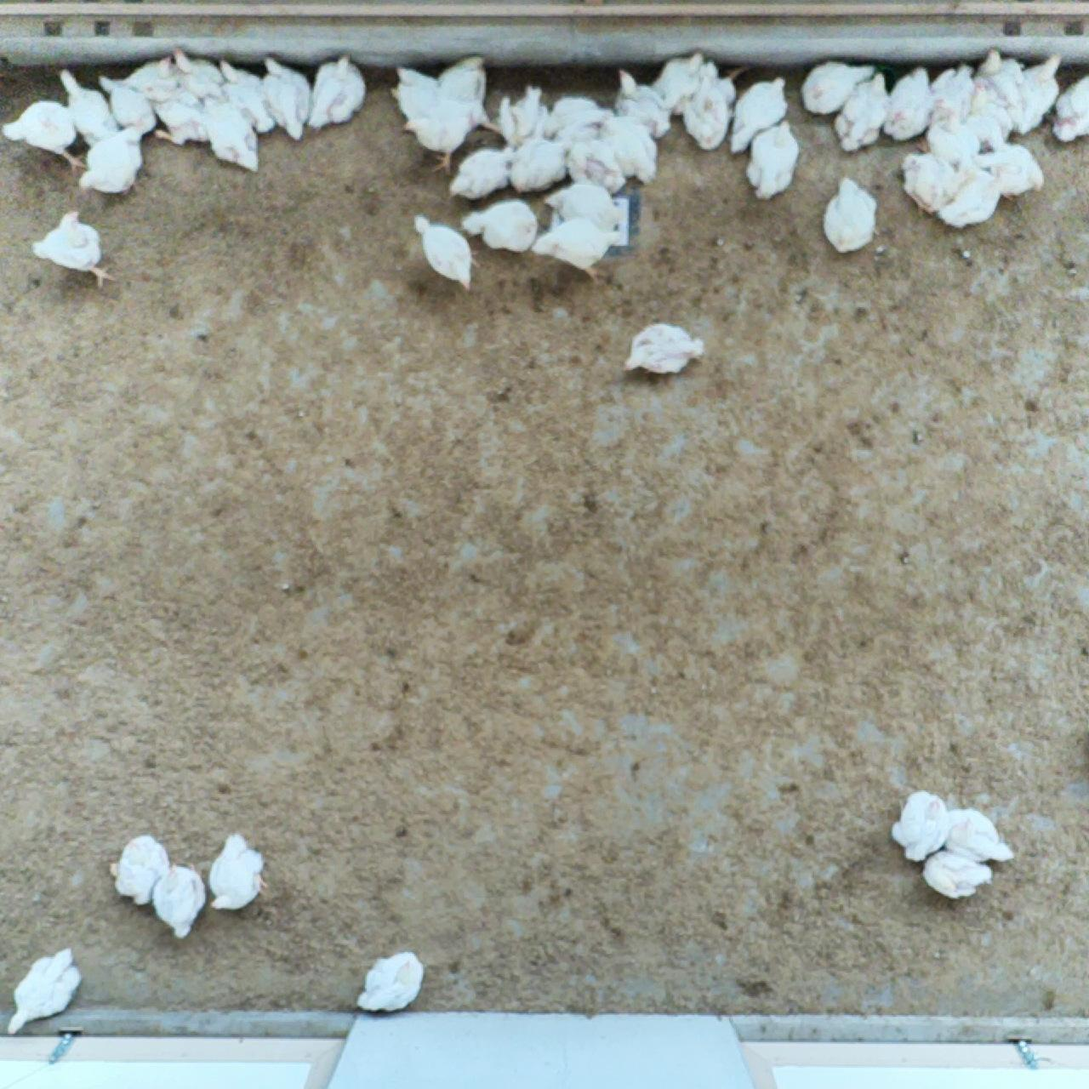chicken: (30, 214, 120, 287), (7, 949, 80, 1029), (50, 66, 123, 146), (396, 112, 487, 173), (535, 220, 624, 281), (6, 100, 87, 167), (199, 94, 265, 173), (413, 215, 481, 291), (391, 60, 500, 105), (208, 833, 267, 914), (939, 805, 1017, 866), (483, 84, 554, 151), (77, 128, 145, 197), (624, 323, 704, 379), (261, 54, 315, 135), (616, 67, 675, 141), (820, 175, 877, 250), (219, 60, 277, 133), (539, 183, 621, 234), (360, 949, 425, 1012), (151, 863, 204, 936), (109, 833, 164, 903), (748, 121, 798, 197), (978, 49, 1029, 123), (461, 202, 536, 252), (309, 54, 363, 123), (978, 143, 1047, 197), (99, 71, 157, 135), (386, 86, 478, 125), (836, 70, 882, 148), (445, 146, 512, 199), (565, 137, 626, 194), (1018, 51, 1061, 131), (685, 63, 751, 115), (940, 169, 1002, 224), (894, 790, 944, 858), (803, 62, 875, 109), (737, 78, 783, 151), (601, 117, 655, 179), (918, 852, 990, 898), (157, 88, 211, 148), (549, 96, 614, 145), (676, 92, 729, 151), (889, 66, 930, 140), (172, 46, 229, 99), (510, 137, 563, 191), (120, 57, 178, 104), (907, 151, 954, 209), (931, 118, 980, 173), (974, 86, 1018, 147), (660, 51, 701, 114), (932, 63, 974, 122), (1061, 72, 1089, 134)
